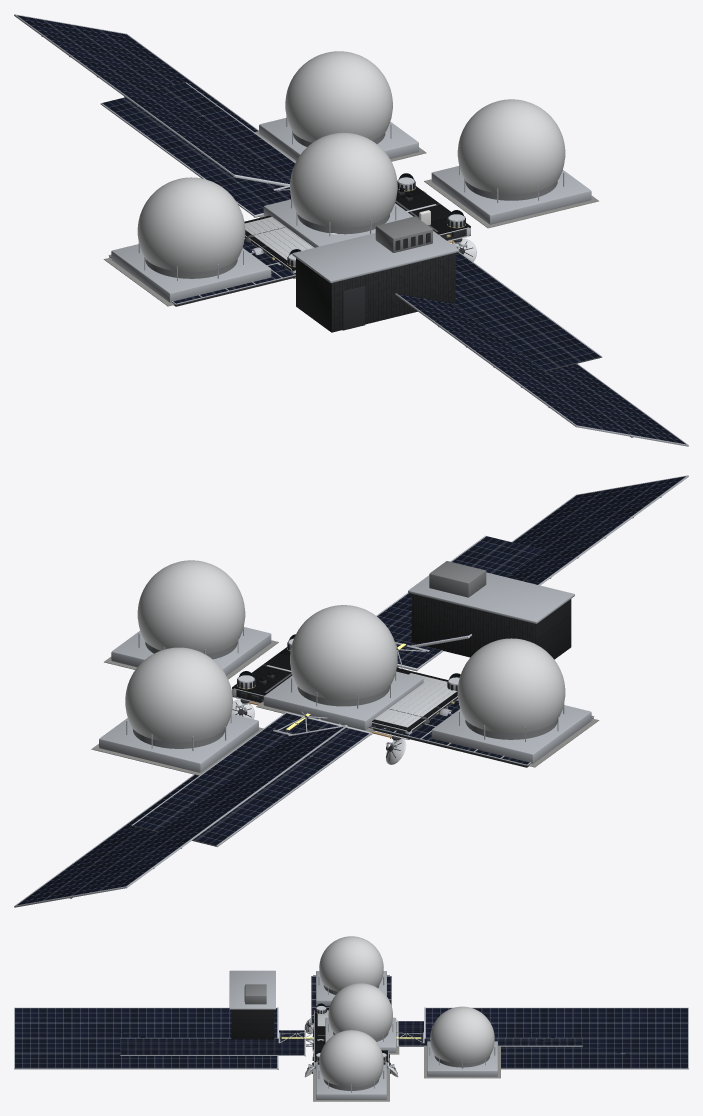
Rendered from leo.glb.
3 views of the same model, one above another, from view 1: azimuth 30°, elevation 25°; view 2: azimuth 150°, elevation 25°; view 3: azimuth 270°, elevation 25° (orthographic). The views are drawn at different scales.
Visible parts, largest first — view 1: gw, s6_power, d2c, s5_lid, s8_rad, s3_laser; view 2: gw, s6_power, d2c, s8_rad, s5_lid, s2_feeder, s5_struct; view 3: s6_power, gw, d2c, s5_lid, s2_feeder.
Part boxes in pixels (box(x1,y1,x2,y2)): gw: box(103, 51, 598, 332); s6_power: box(14, 14, 688, 446); d2c: box(100, 82, 602, 371); s5_lid: box(244, 186, 470, 270); s8_rad: box(244, 217, 314, 260); s3_laser: box(287, 173, 465, 267); gw: box(91, 560, 599, 775); s6_power: box(14, 475, 688, 907); d2c: box(131, 535, 594, 847); s8_rad: box(374, 673, 456, 727); s5_lid: box(232, 647, 457, 731); s2_feeder: box(231, 699, 406, 764); s5_struct: box(232, 648, 458, 739); s6_power: box(14, 1007, 688, 1069); gw: box(229, 936, 500, 1101); d2c: box(120, 976, 582, 1056); s5_lid: box(314, 1009, 388, 1062); s2_feeder: box(304, 1018, 398, 1077).
Bounding box in the file's own units: 9.7 × 2.46 × 21.9.
Materials: 35 (4 with a texture image).
